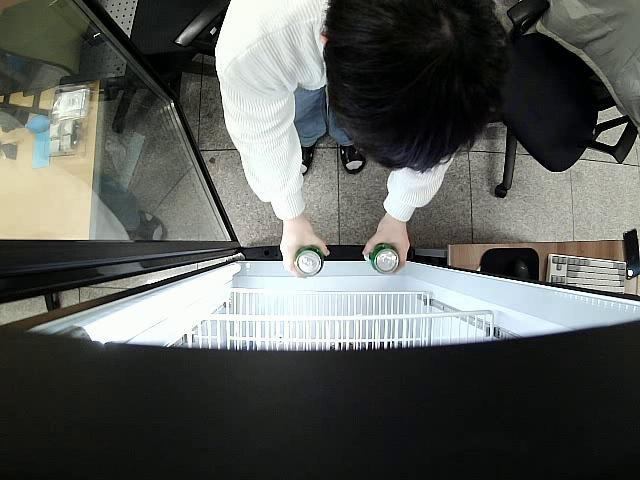12_chilsungCider: (363, 242, 401, 276), (294, 246, 324, 276)
